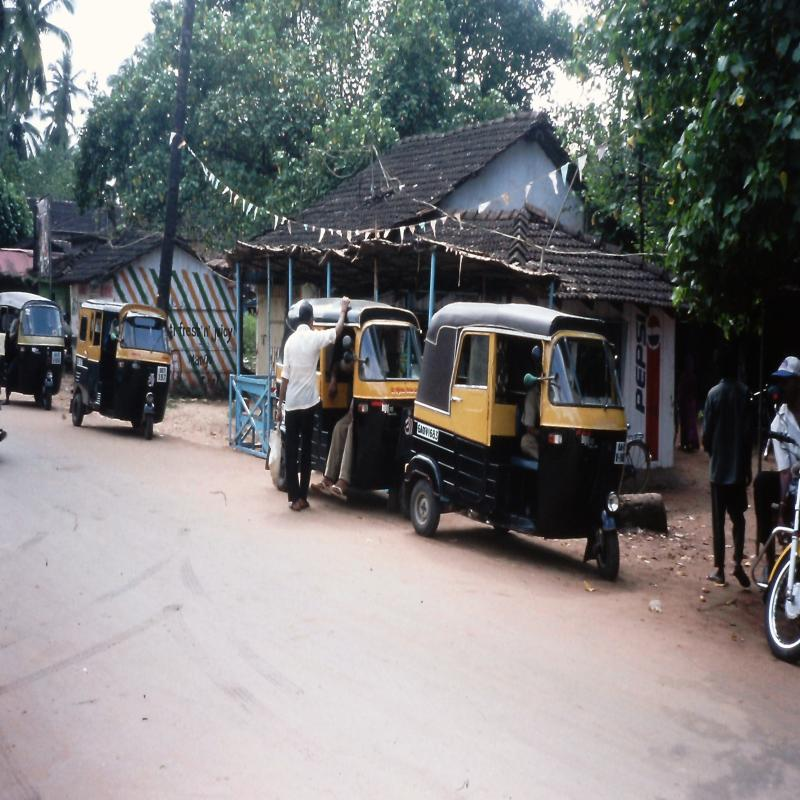auto: (412, 297, 628, 573), (288, 304, 404, 494), (80, 304, 168, 428), (0, 289, 62, 401)
